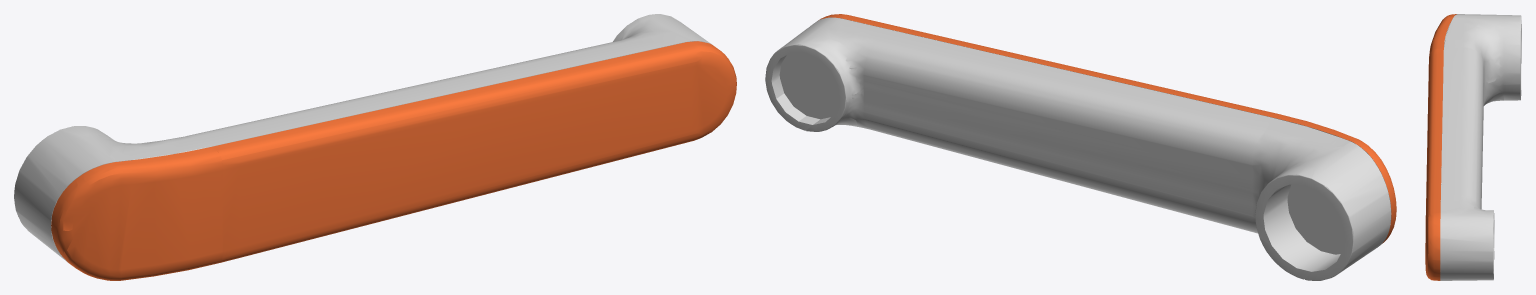
3 renders of one model, left to right at view 1: azimuth 30°, elevation 25°; view 2: azimuth 150°, elevation 25°; view 3: azimuth 270°, elevation 25°, orthographic. The views are drawn at different scales.
Visible parts, largest first — view 1: null; view 2: null; view 3: null.
Boxes of the visible parts, box(x1,y1,x2,y2) form: null: box(14, 14, 736, 280); null: box(765, 14, 1396, 280); null: box(1425, 14, 1521, 280).
Bounding box in the file's own units: 0.4479 × 0.075 × 0.0823.
